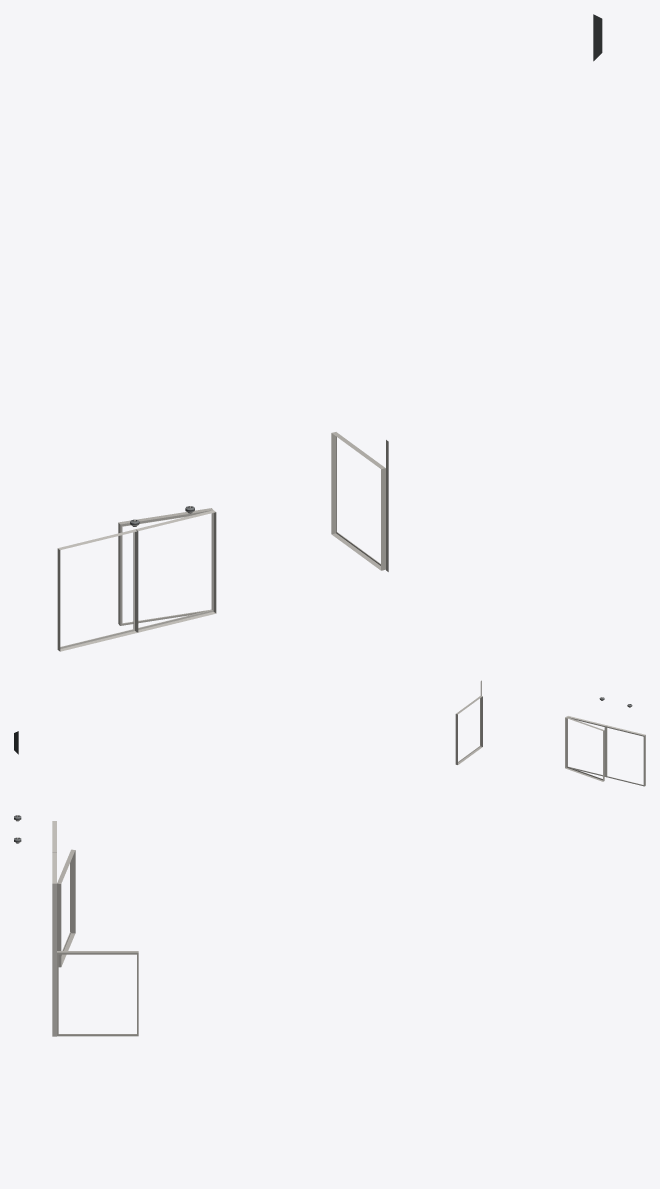
Rendered from kd_stage_135d18_4_48.glb.
The picture shows the model from 3 angles, top to bottom: view 1: azimuth 30°, elevation 25°; view 2: azimuth 150°, elevation 25°; view 3: azimuth 270°, elevation 25°; orthographic projection. The views are drawn at different scales.
Visible parts, largest first — view 1: kd_stage_135d18_4_48; view 2: kd_stage_135d18_4_48; view 3: kd_stage_135d18_4_48.
Boxes of the visible parts, x1,y1,x2,y2 form: kd_stage_135d18_4_48: (57,14,602,651); kd_stage_135d18_4_48: (14,680,645,786); kd_stage_135d18_4_48: (14,815,138,1036).
Size of the model in its own units: 5.78 by 0.9531 by 4.26.
Materials: 1 (1 with a texture image).
